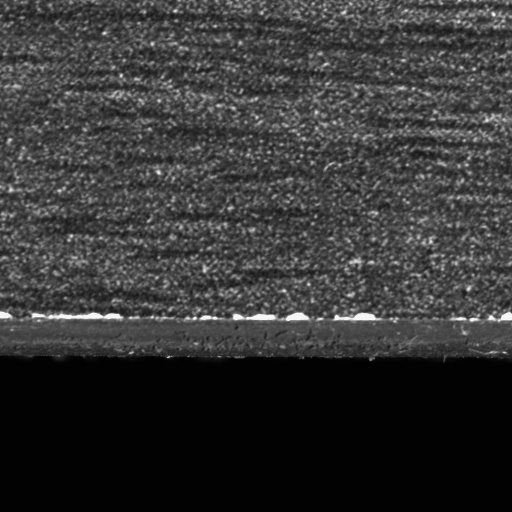huashang: (29, 310, 124, 322), (233, 310, 309, 324), (333, 311, 380, 323), (487, 312, 511, 321)
